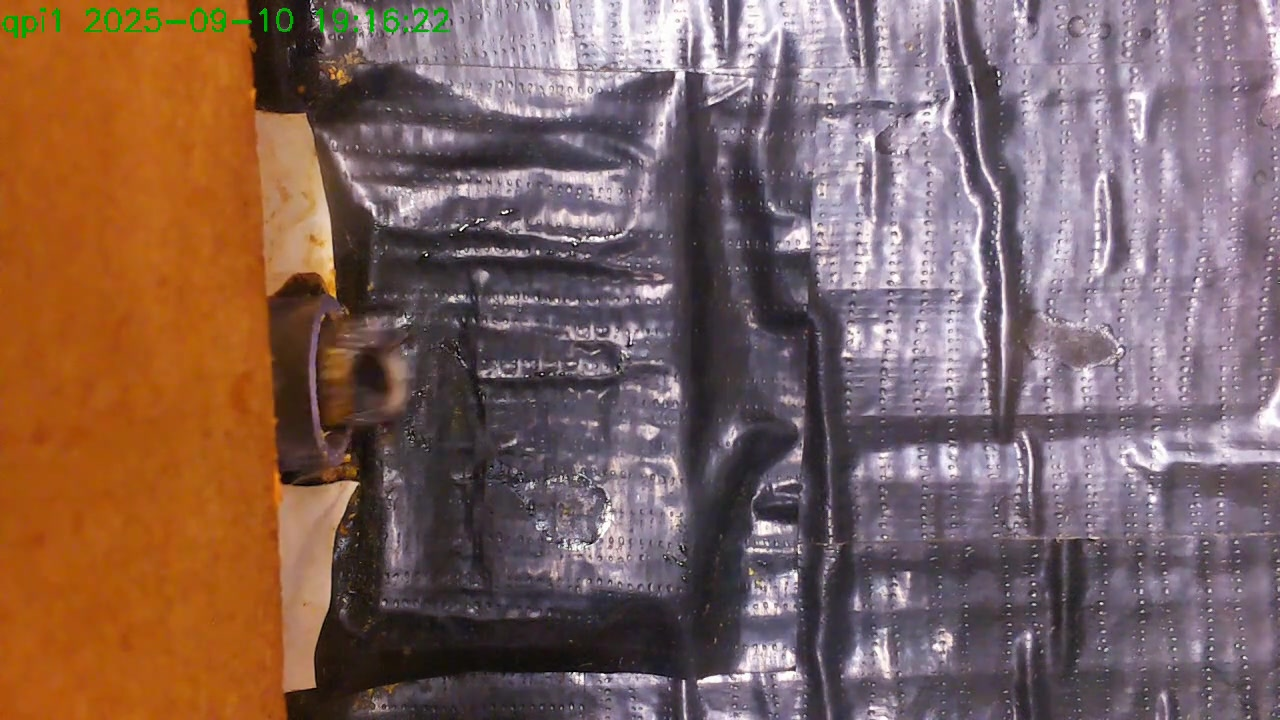bee: (275, 300, 424, 447)
